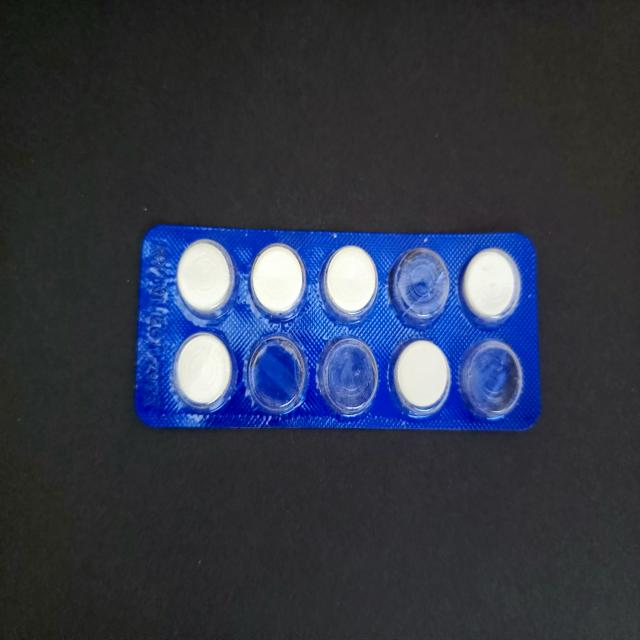defect: (458, 335, 524, 422), (245, 332, 310, 416), (316, 334, 381, 418), (388, 244, 452, 329)
